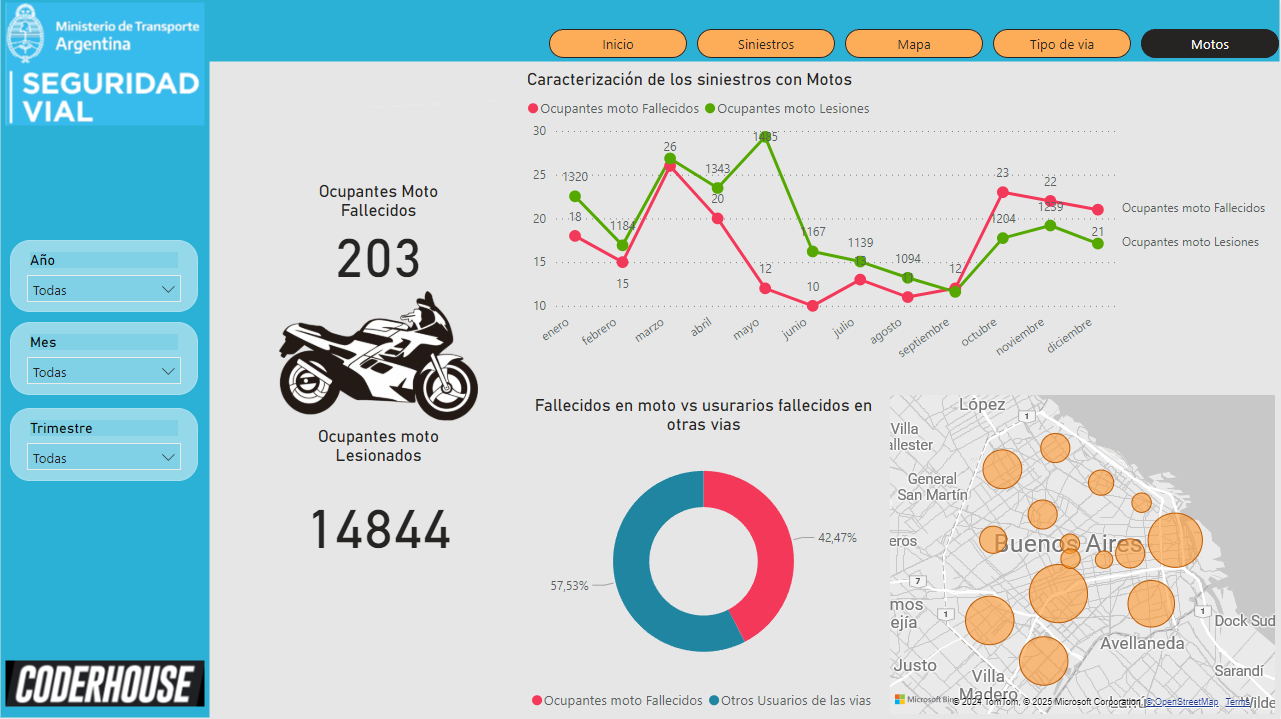

The dashboard page shown, as its layout file describes it:
{"tool":"powerbi","page":{"name":"Motos","canvas":[1280,720],"ordinal":4},"visuals":[{"type":"pageNavigator","box":[548.9,30,731.1,28.9],"z":0},{"type":"donutChart","title":"Fallecidos en moto vs usurarios fallecidos en otras vias","fields":{"Y":["Medidas.Moto victimas fatales","Medidas.No moto victimas fatales"]},"box":[521.8,396.4,362.7,323.6],"z":1000},{"type":"lineChart","title":"Caracterización de los siniestros con Motos","fields":{"Y":["Medidas.Ocupantes moto"],"Category":["MomentoSiniestro.fecha.Variación.Jerarquía de fechas.Mes"],"Y2":["Medidas.Ocupantes moto Lesiones"]},"box":[521.8,70,750.9,311.8],"z":2000},{"type":"map","fields":{"Size":["Sum(TipoSiniestro.Cantidad_victimas_fatales)"],"Category":["Comuna.Localidad"]},"box":[884.5,390.9,395.5,329.1],"z":3000},{"type":"image","box":[273.6,283.6,209.1,150],"z":4000},{"type":"slicer","fields":{"Values":["MomentoSiniestro.fecha.Variación.Jerarquía de fechas.Año"]},"box":[10,241,188,72],"z":5000},{"type":"slicer","fields":{"Values":["MomentoSiniestro.fecha.Variación.Jerarquía de fechas.Mes"]},"box":[10,323.3,187.9,72.3],"z":6000},{"type":"slicer","fields":{"Values":["MomentoSiniestro.fecha.Variación.Jerarquía de fechas.Trimestre"]},"box":[10,409,188,73],"z":7000},{"type":"card","title":"Ocupantes Moto Fallecidos","fields":{"Values":["Medidas.Ocupantes moto"]},"box":[273.6,181.8,209.1,101.8],"z":8000},{"type":"card","title":"Ocupantes moto Lesionados","fields":{"Values":["Medidas.Ocupantes moto Lesiones"]},"box":[273.6,427.3,209.1,152.7],"z":9000}]}

Visuals, with their boxes in screenshot pixels (x1, y1, x2, y2), scaled from the page's 1280x720 canvas onto the 1281x719 screenshot:
pageNavigator: detection(549, 30, 1280, 59)
"Fallecidos en moto vs usurarios fallecidos en otras vias" donutChart: detection(522, 396, 885, 718)
"Caracterización de los siniestros con Motos" lineChart: detection(522, 70, 1274, 381)
map - Sum(TipoSiniestro.Cantidad_victimas_fatales) x Comuna.Localidad: detection(885, 390, 1280, 718)
image: detection(274, 283, 483, 433)
slicer - MomentoSiniestro.fecha.Variación.Jerarquía de fechas.Año: detection(10, 241, 198, 313)
slicer - MomentoSiniestro.fecha.Variación.Jerarquía de fechas.Mes: detection(10, 323, 198, 395)
slicer - MomentoSiniestro.fecha.Variación.Jerarquía de fechas.Trimestre: detection(10, 408, 198, 481)
"Ocupantes Moto Fallecidos" card: detection(274, 182, 483, 283)
"Ocupantes moto Lesionados" card: detection(274, 427, 483, 579)
